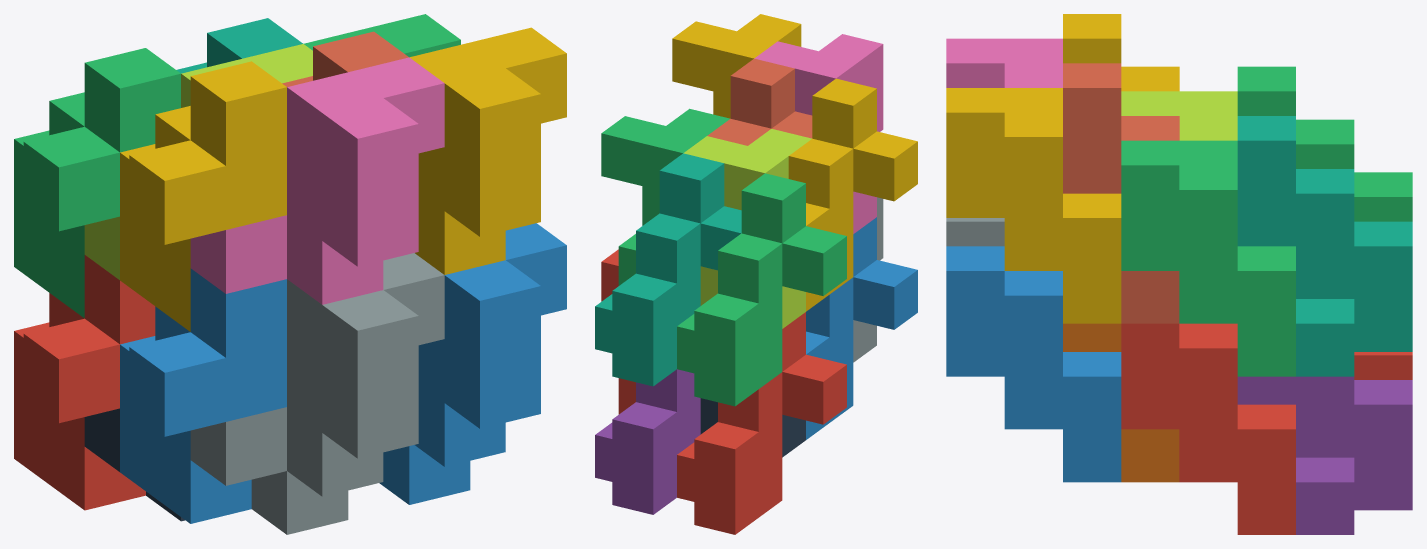
Rendered from tiling.obj.
3 views of the same model, side by side, from view 1: azimuth 30°, elevation 25°; view 2: azimuth 150°, elevation 25°; view 3: azimuth 270°, elevation 25° (orthographic). The views are drawn at different scales.
Visible parts, largest first — view 1: copy_2_domain_2, copy_2_domain_4, copy_1_domain_4, copy_1_domain_2, copy_2_domain_6, copy_2_domain_8, copy_1_domain_3, copy_1_domain_1, copy_2_domain_3, copy_1_domain_7, copy_1_domain_8, copy_2_domain_7 (+1 smaller); view 2: copy_1_domain_3, copy_1_domain_7, copy_1_domain_1, copy_1_domain_4, copy_1_domain_5, copy_1_domain_2, copy_2_domain_7, copy_2_domain_8, copy_2_domain_4, copy_2_domain_3, copy_1_domain_8, copy_2_domain_1 (+2 smaller); view 3: copy_1_domain_7, copy_2_domain_7, copy_2_domain_8, copy_2_domain_6, copy_2_domain_5, copy_1_domain_5, copy_1_domain_8, copy_1_domain_3, copy_2_domain_4, copy_1_domain_6, copy_1_domain_4, copy_2_domain_3 (+2 smaller).
Boxes of the visible parts, x1,y1,x2,y2 form: copy_2_domain_2: (190,253,444,534); copy_2_domain_4: (190,57,444,304); copy_1_domain_4: (120,61,286,331); copy_1_domain_2: (120,268,286,523); copy_2_domain_6: (379,223,566,504); copy_2_domain_8: (409,27,566,274); copy_1_domain_3: (14,48,180,318); copy_1_domain_1: (14,255,155,510); copy_2_domain_3: (84,44,312,279); copy_1_domain_7: (176,18,302,73); copy_1_domain_8: (282,31,408,86); copy_2_domain_7: (303,14,460,57); copy_1_domain_3: (677,173,846,406); copy_1_domain_7: (595,153,741,386); copy_1_domain_1: (677,312,846,534); copy_1_domain_4: (788,78,917,311); copy_1_domain_5: (595,369,700,514); copy_1_domain_2: (806,217,917,439); copy_2_domain_7: (601,108,729,285); copy_2_domain_8: (672,14,801,118); copy_2_domain_4: (754,34,883,233); copy_2_domain_3: (683,128,811,328); copy_1_domain_8: (707,58,812,145); copy_2_domain_1: (700,398,805,457); copy_1_domain_7: (1237,116,1412,376); copy_2_domain_7: (1121,140,1295,376); copy_2_domain_8: (946,88,1121,323); copy_2_domain_6: (946,246,1121,482); copy_2_domain_5: (1121,323,1295,534); copy_1_domain_5: (1237,376,1412,534); copy_1_domain_8: (1063,63,1179,323); copy_1_domain_3: (1237,66,1412,221); copy_2_domain_4: (946,38,1062,87); copy_1_domain_6: (1063,323,1179,482); copy_1_domain_4: (1063,14,1179,91); copy_2_domain_3: (1121,91,1237,140).
Bounding box in the file's own units: 6 × 8 × 8.
